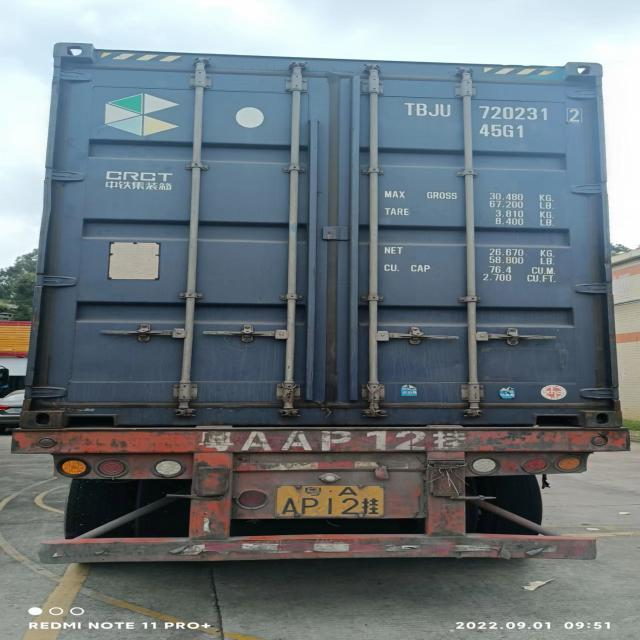ISO: (482, 125, 526, 141)
container_number: (398, 104, 582, 125)
